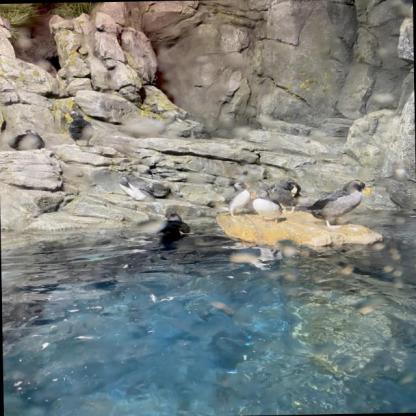puffin: (307, 179, 372, 229), (115, 173, 169, 205), (214, 182, 251, 218), (250, 188, 282, 224), (155, 212, 191, 244), (270, 179, 301, 214), (65, 108, 92, 147), (6, 128, 42, 154)
